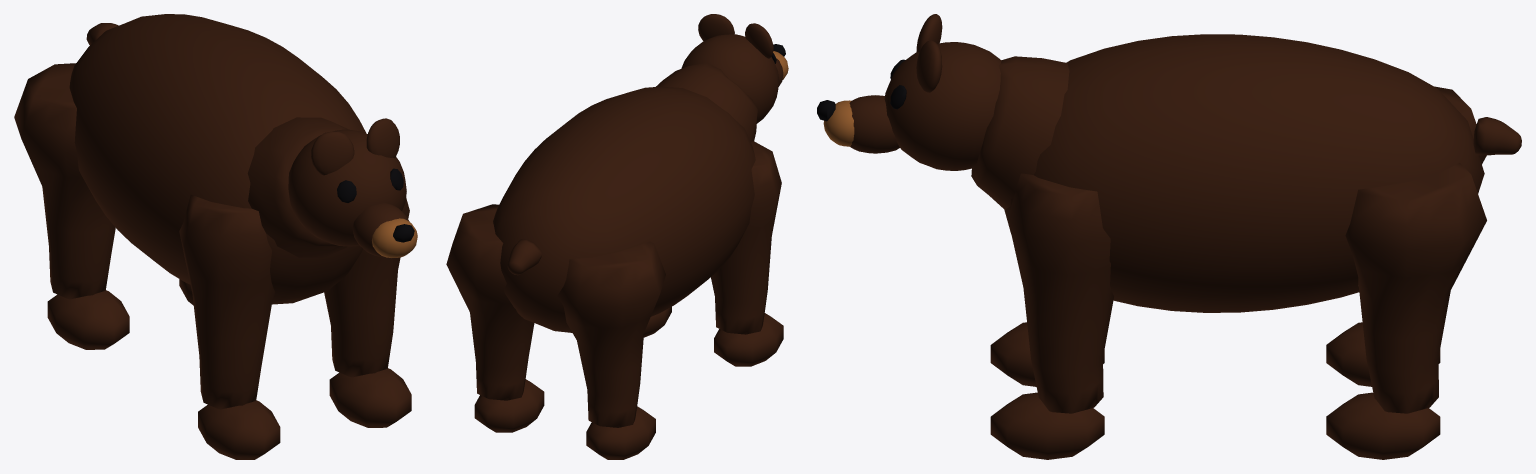
File: fur-bear.obj
The picture shows the model from 3 angles, left to right: view 1: azimuth 30°, elevation 25°; view 2: azimuth 150°, elevation 25°; view 3: azimuth 270°, elevation 25°; orthographic projection. The views are drawn at different scales.
Parts seen in each view (by area): view 1: Bear-body-coat, Bear-legs-legs, Bear-body-face, Bear-muzzle-muzzle, Bear-eyes-bare; view 2: Bear-body-coat, Bear-legs-legs, Bear-body-face; view 3: Bear-body-coat, Bear-legs-legs, Bear-body-face, Bear-muzzle-muzzle.
Part boxes in pixels (<box>): Bear-body-coat: <box>69,14,366,304</box>; Bear-legs-legs: <box>14,63,411,459</box>; Bear-body-face: <box>289,118,409,257</box>; Bear-muzzle-muzzle: <box>372,218,417,257</box>; Bear-eyes-bare: <box>337,168,403,202</box>; Bear-body-coat: <box>493,42,771,332</box>; Bear-legs-legs: <box>446,141,783,459</box>; Bear-body-face: <box>691,14,783,123</box>; Bear-body-coat: <box>953,34,1521,312</box>; Bear-legs-legs: <box>990,86,1486,459</box>; Bear-body-face: <box>849,14,974,170</box>; Bear-muzzle-muzzle: <box>823,100,854,146</box>.
Size of the model in its own units: 0.6699 by 0.9123 by 1.5.
